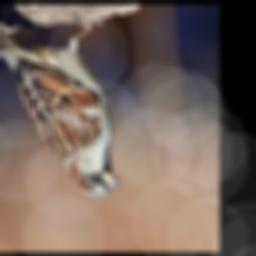Sparrow: (0, 8, 119, 197)
